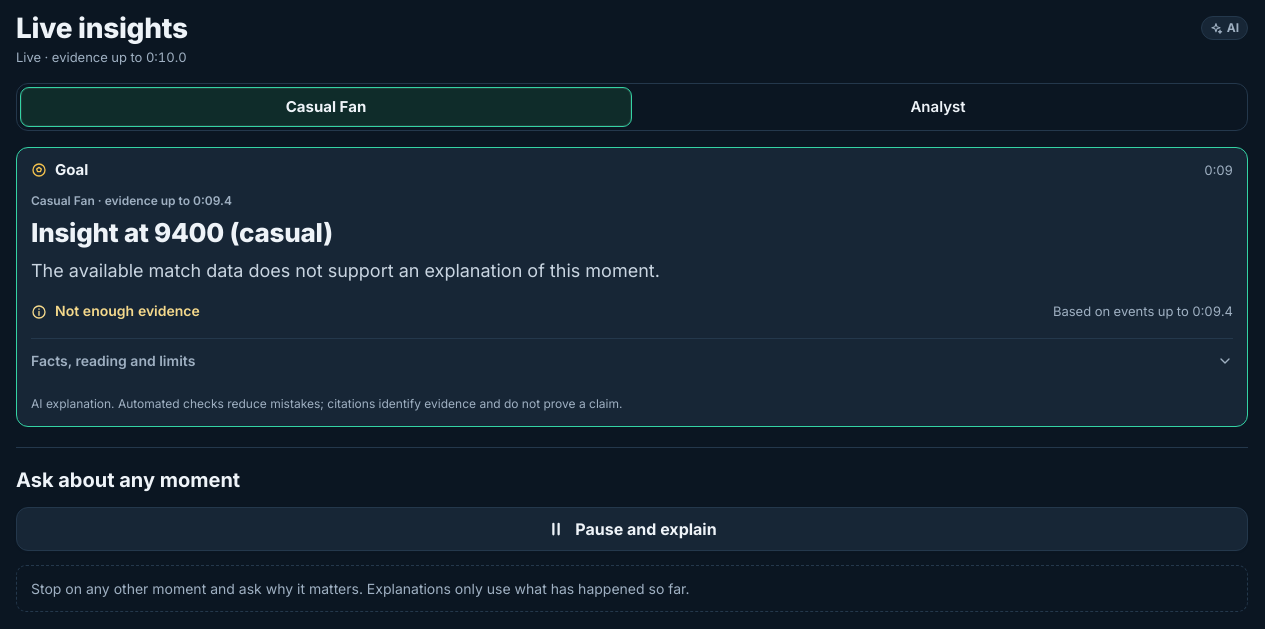
Test: live insights › collapses an open card when its title is clicked, and opens it again
This screenshot has width=1265, height=629.
Expected: the element with class "insight__answer" is shown, [17,192,1247,426]
Step 1. Click the button with class "insight__head" → x=72, y=170, box [17,148,1247,192]
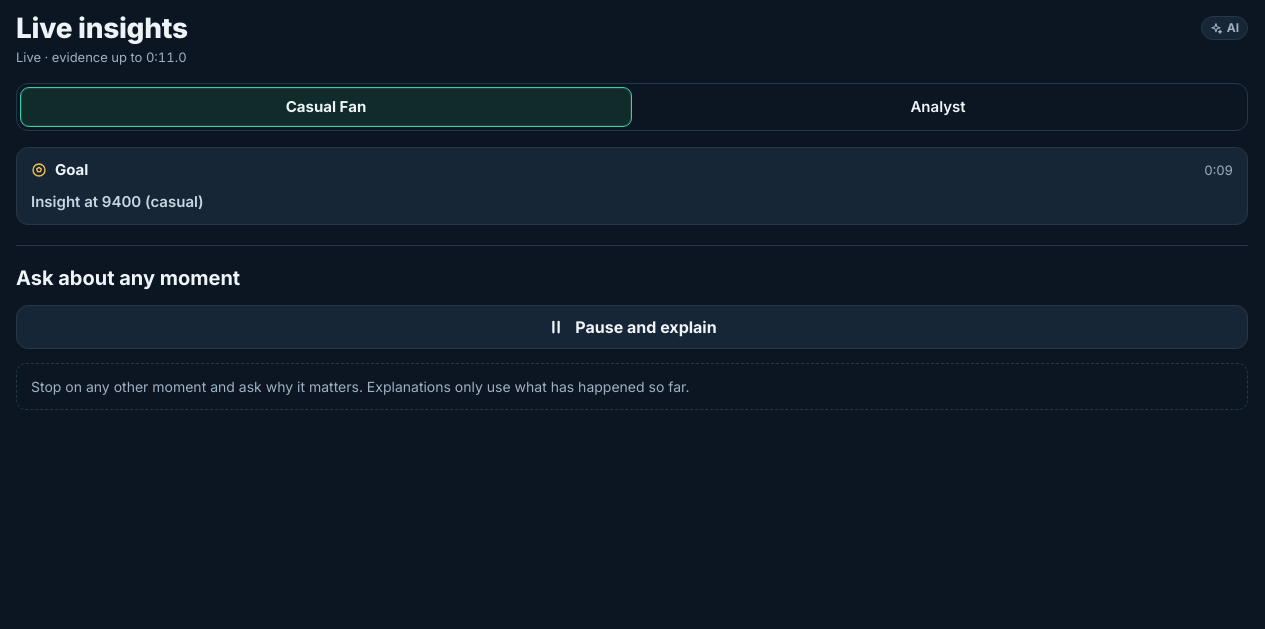
Expected: the element with class "insight__answer" is gone
Step 2. Click the button with class "insight__head" → x=72, y=170, box [17,148,1247,192]
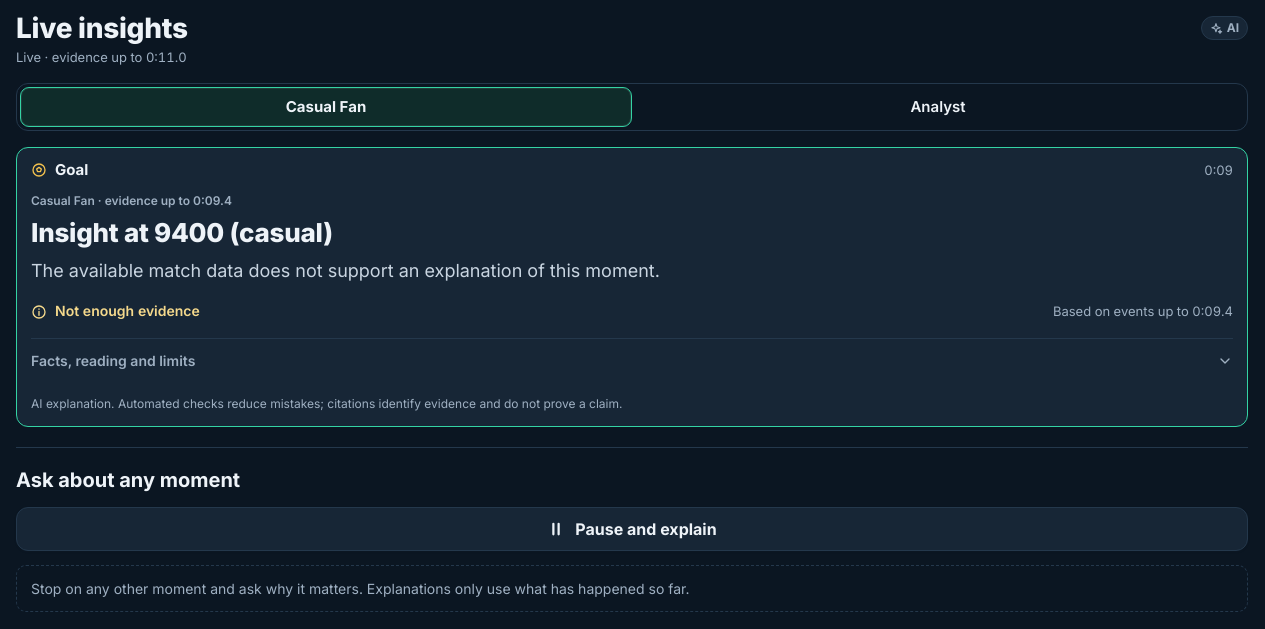
Expected: the element with class "insight__answer" is shown, [17,192,1247,426]
